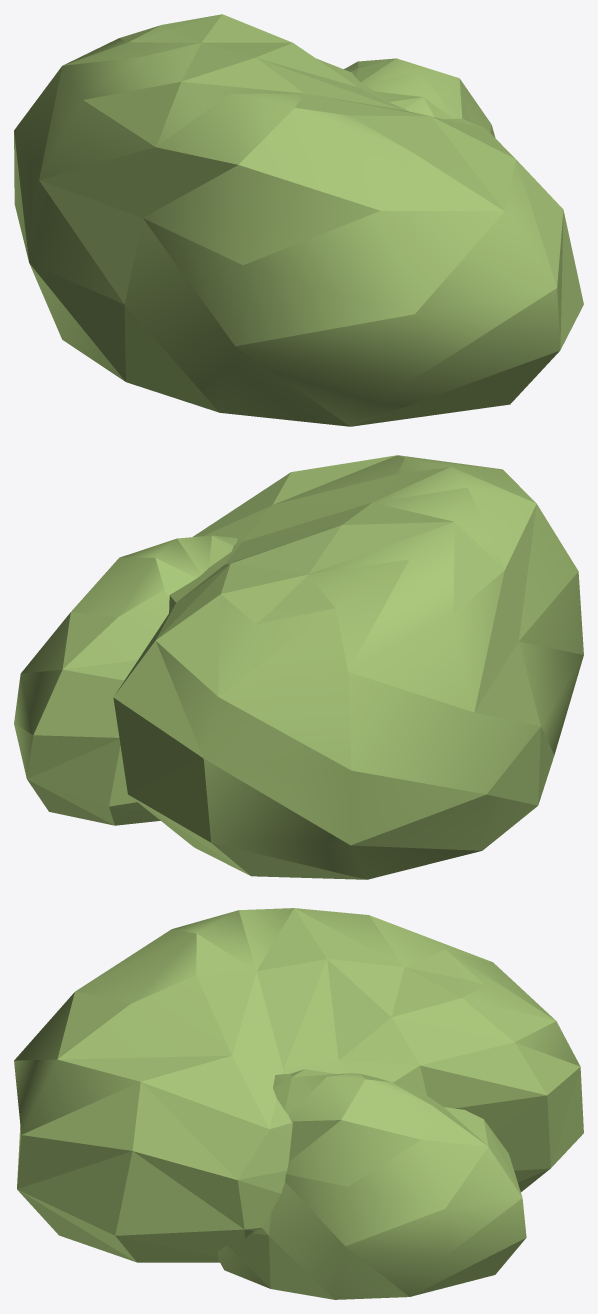
The model's file is a_z2_bush_02.fbx.
3 renders of one model, top to bottom at view 1: azimuth 30°, elevation 25°; view 2: azimuth 150°, elevation 25°; view 3: azimuth 270°, elevation 25°, orthographic. The views are drawn at different scales.
Visible parts, largest first — view 1: a_z2_bush_02; view 2: a_z2_bush_02; view 3: a_z2_bush_02.
Part boxes in pixels (<box>): a_z2_bush_02: <box>14,14,583,426</box>; a_z2_bush_02: <box>14,455,583,879</box>; a_z2_bush_02: <box>14,908,583,1299</box>.
Size of the model in its own units: 160 by 95.52 by 199.
